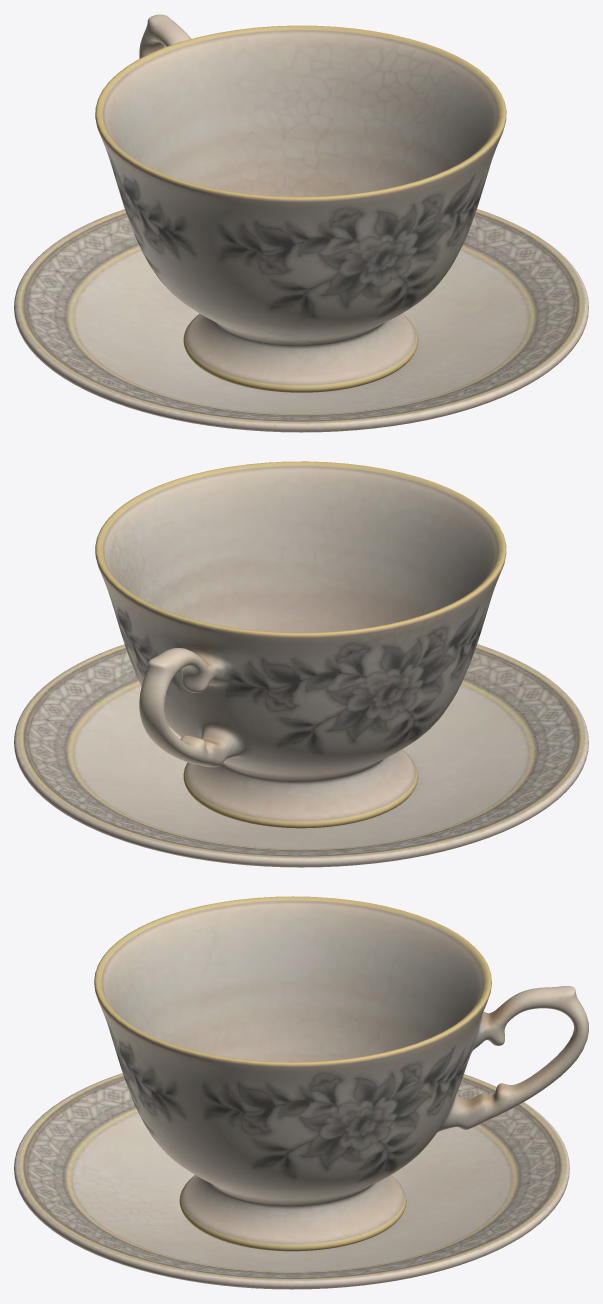
Rendered from DiffuseTransmissionTeacup.glb.
The picture shows the model from 3 angles, top to bottom: view 1: azimuth 30°, elevation 25°; view 2: azimuth 150°, elevation 25°; view 3: azimuth 270°, elevation 25°; orthographic projection. The views are drawn at different scales.
Visible parts, largest first — view 1: tea_cup, tea_saucer; view 2: tea_cup, tea_saucer; view 3: tea_cup, tea_saucer.
Part boxes in pixels (box(x1,y1,x2,y2)): tea_cup: box(95, 14, 506, 392); tea_saucer: box(14, 209, 588, 432); tea_cup: box(95, 461, 506, 828); tea_saucer: box(14, 644, 588, 867); tea_cup: box(94, 896, 588, 1251); tea_saucer: box(14, 1073, 569, 1289).
Size of the model in its own units: 0.1486 by 0.0704 by 0.1537.
2 materials, 2 textured.
